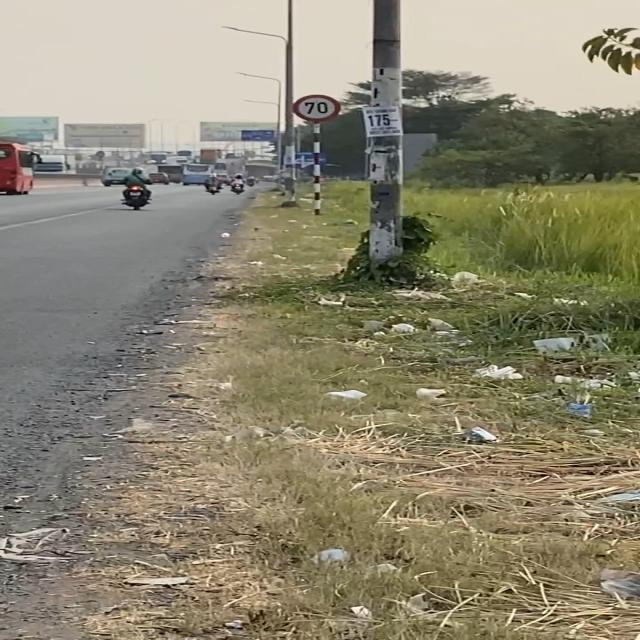127-toc-do-toi-da-70: (292, 94, 342, 124)
